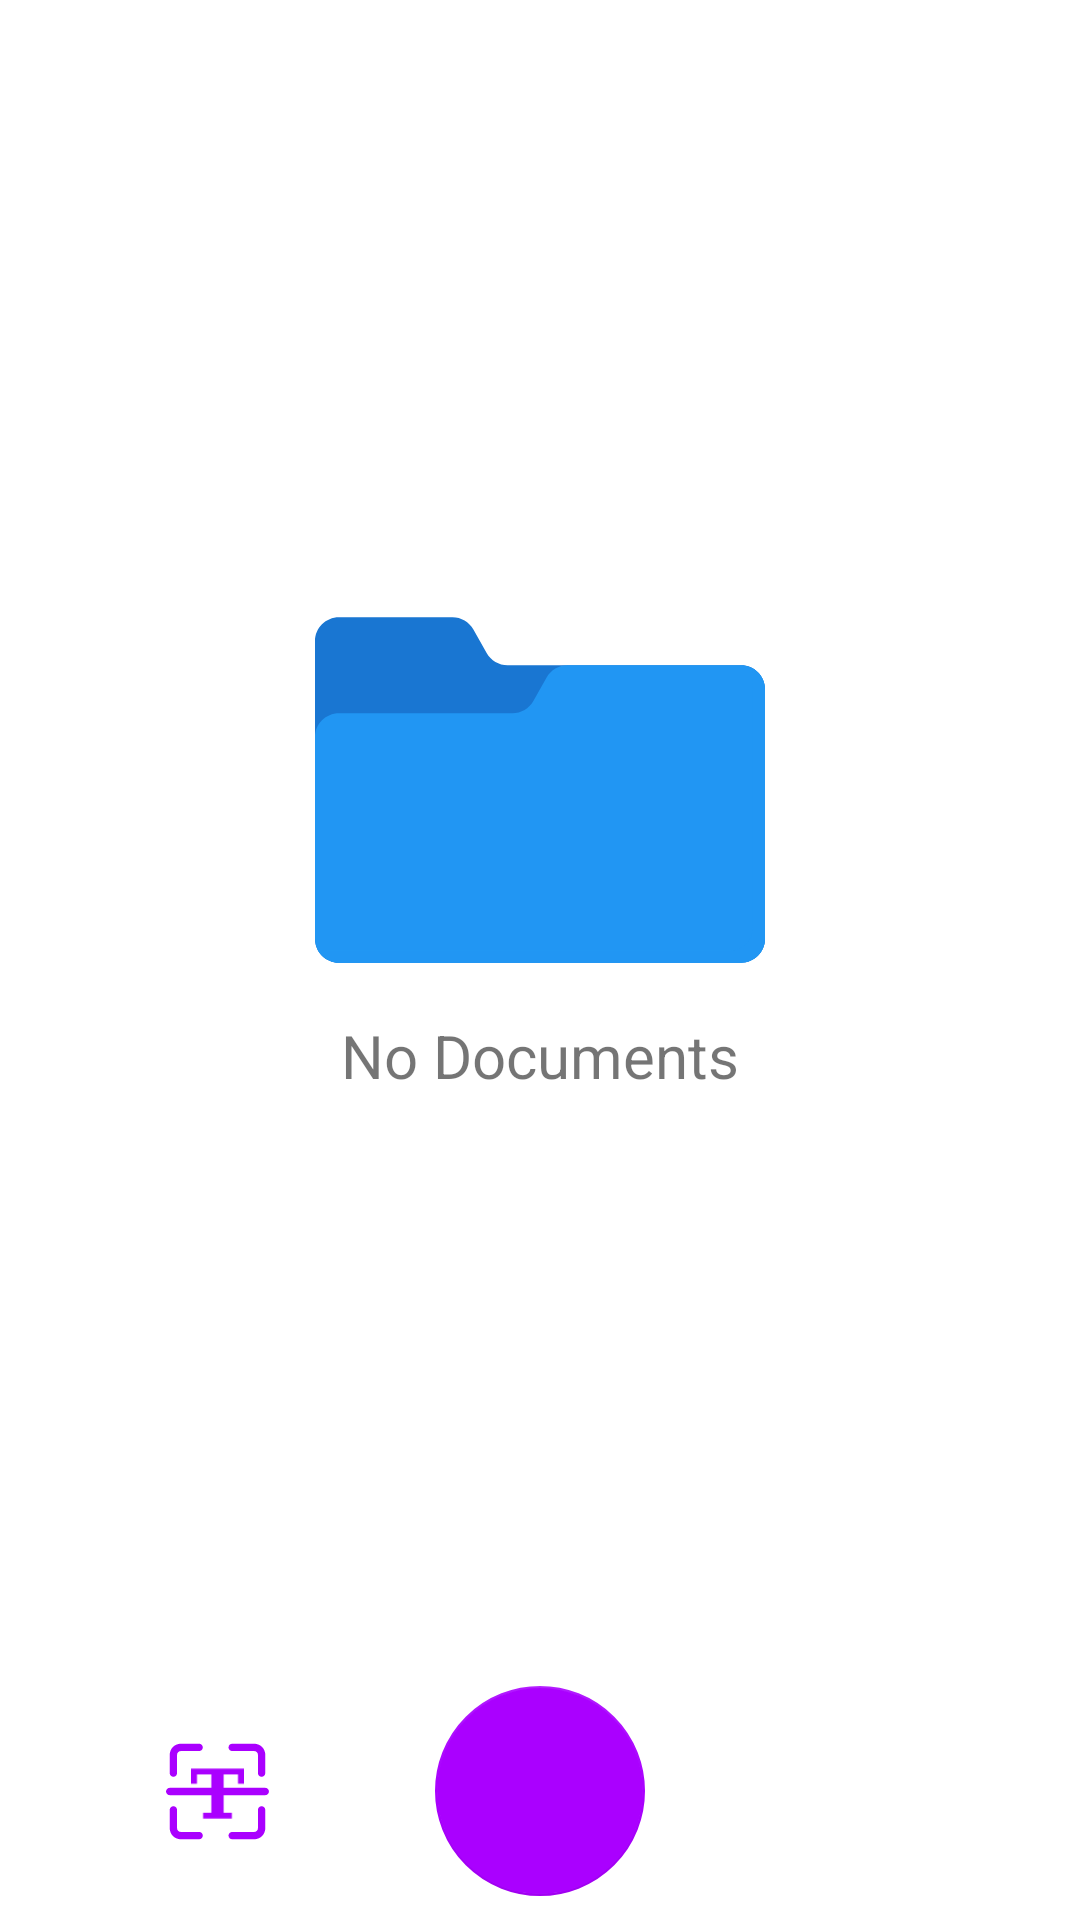

Where icons sit on this 1080 x 1920 app screen, as (x1, y1, x2, y2):
ocr: (166, 1743, 269, 1840)
